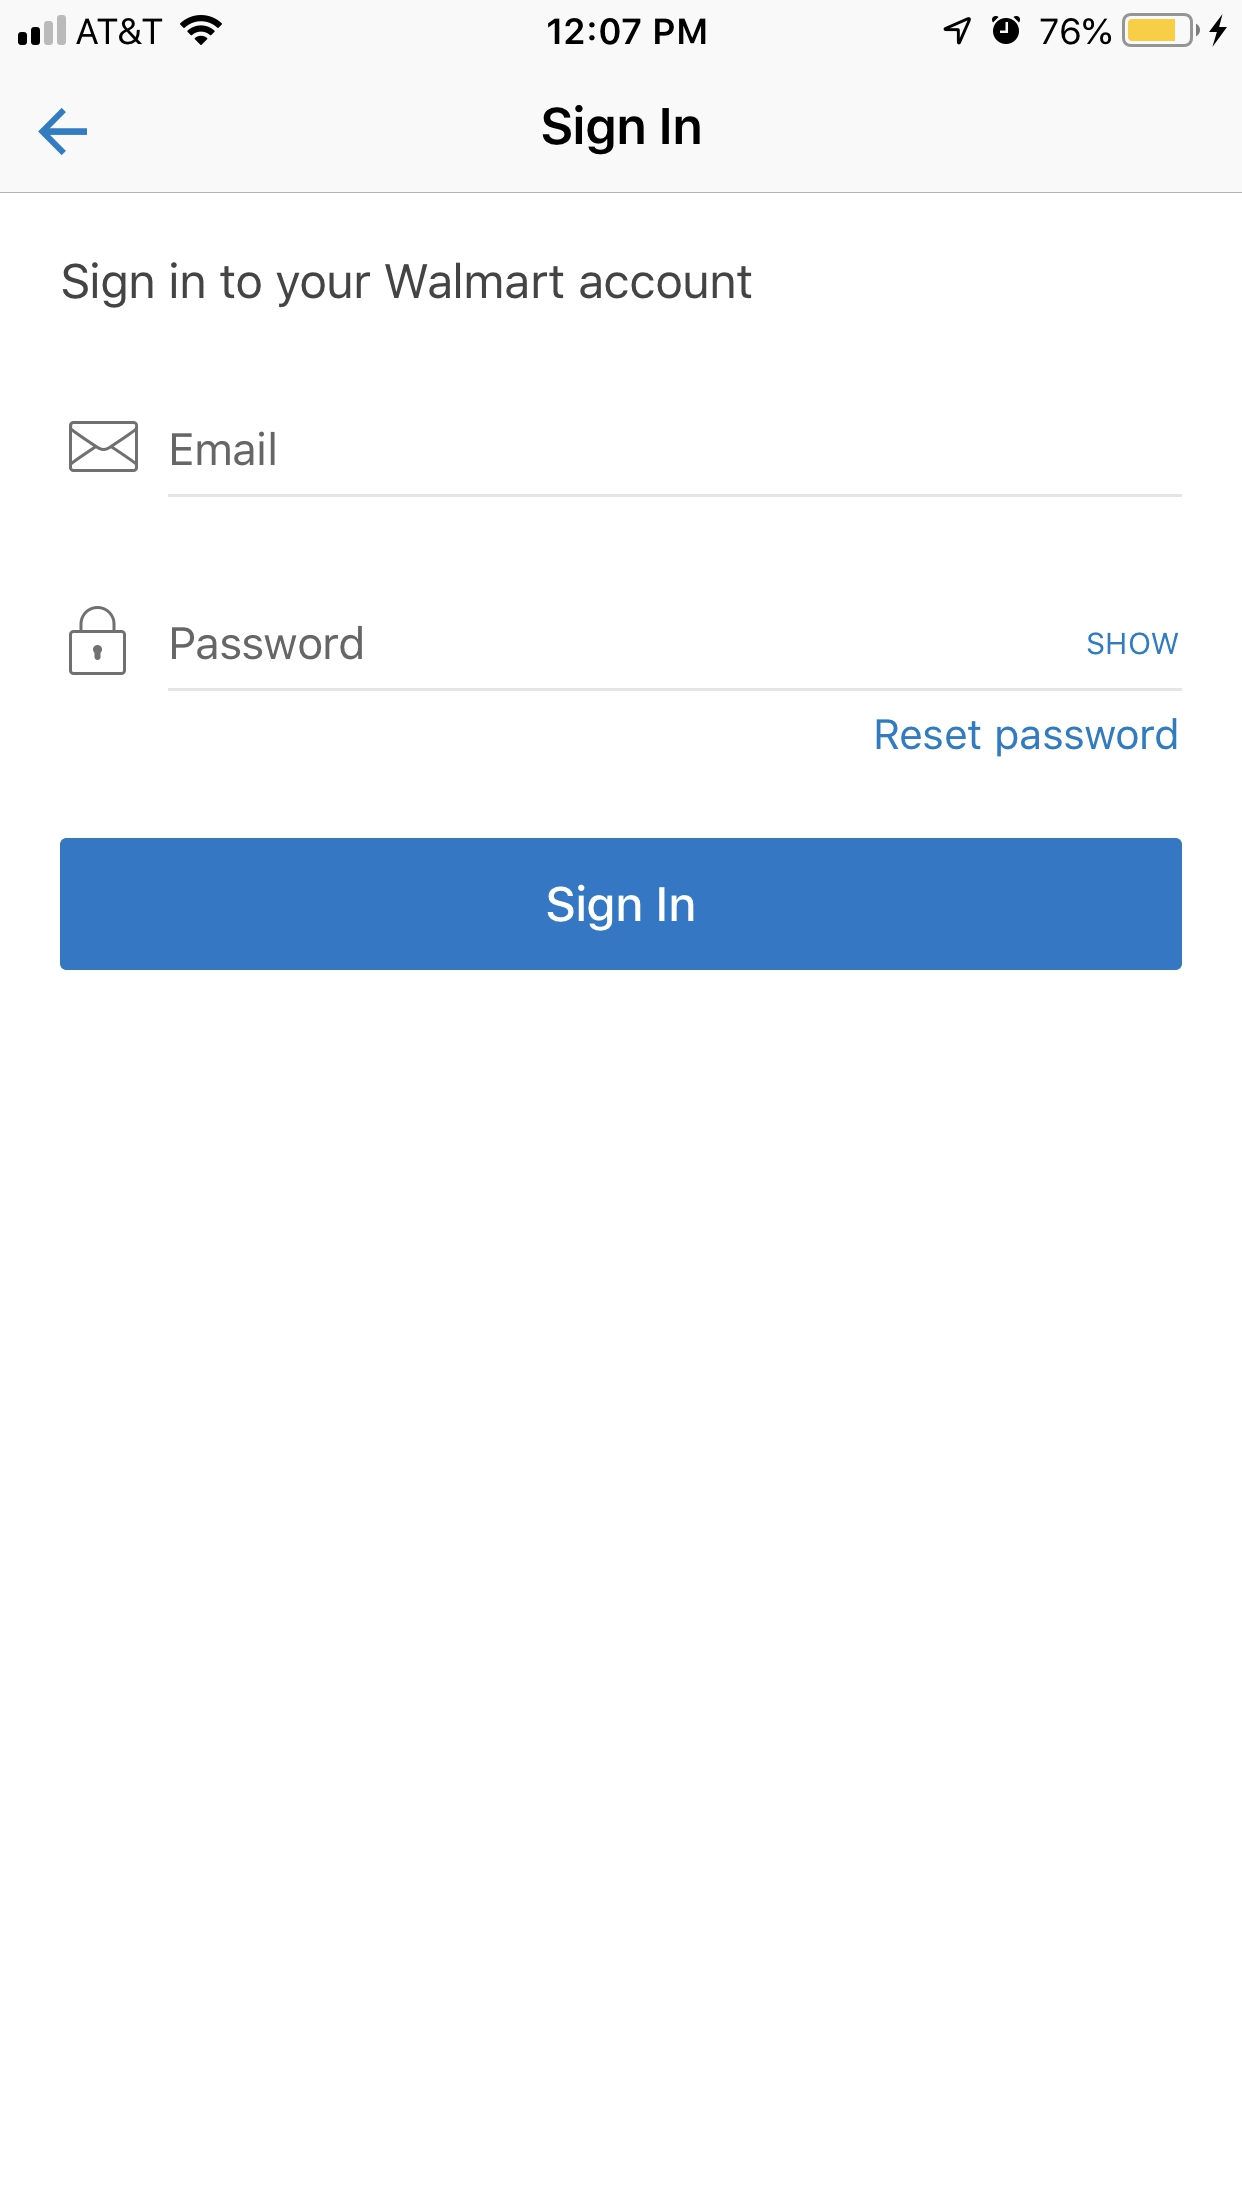EditText: (168, 432, 1183, 499), (168, 626, 1183, 693)
Icon: (70, 607, 127, 676), (70, 422, 140, 475), (38, 108, 89, 158)
Text: (62, 262, 752, 309), (877, 717, 1178, 758), (541, 105, 701, 156), (171, 626, 364, 661), (171, 432, 276, 467), (1087, 631, 1178, 657)
TextButton: (61, 837, 1183, 971)
UpperTaskBar: (2, 2, 1242, 49)
